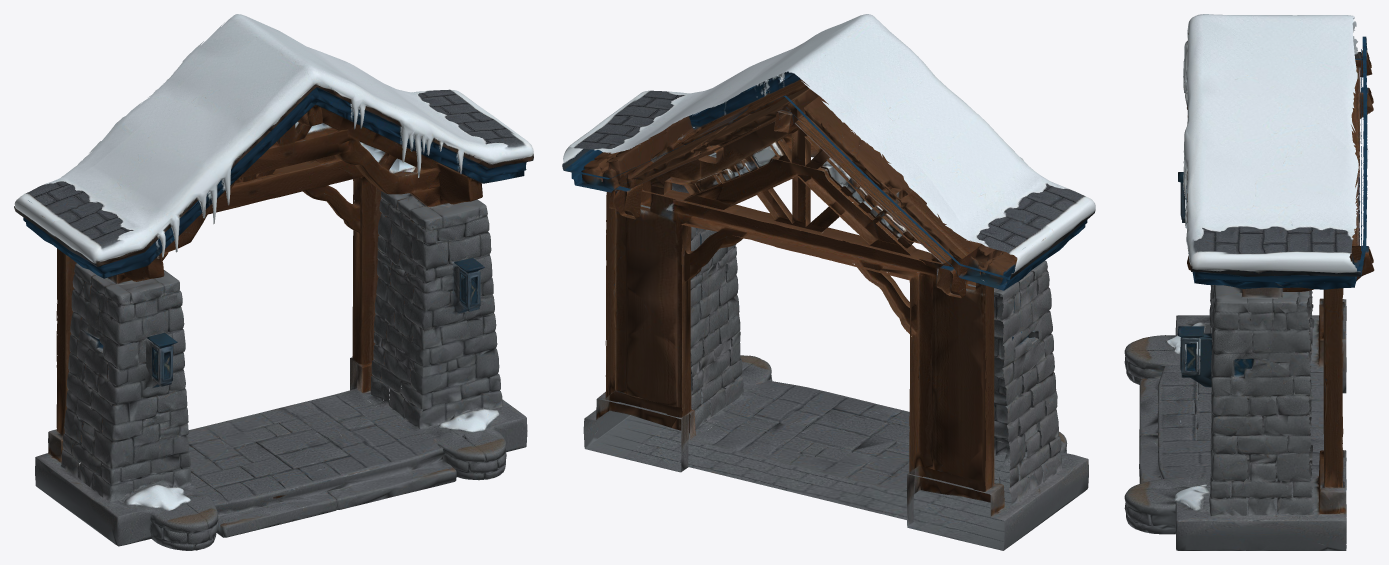
The model's file is alpine_gate.glb.
3 views of the same model, side by side, from view 1: azimuth 30°, elevation 25°; view 2: azimuth 150°, elevation 25°; view 3: azimuth 270°, elevation 25° (orthographic). The views are drawn at different scales.
Bounding box in the file's own units: 1.9 × 1.73 × 0.9057.
Materials: 1 (1 with a texture image).
